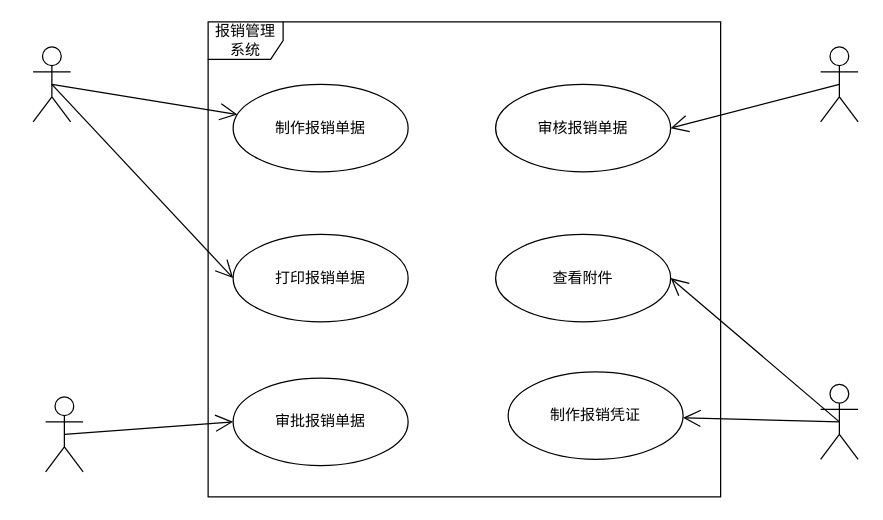
Image size: 883x520. Some labels were removed from this diagram. Here are the shapes that lost their labels. From the top down, the box of each, then its label:
(32, 46, 71, 122): 项目经理
(819, 46, 858, 122): 审核员
(44, 396, 83, 472): 领导
(819, 383, 858, 459): 出纳
